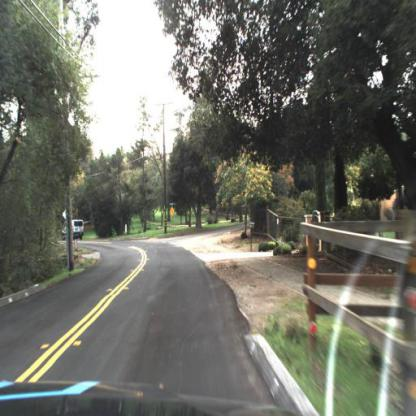car: (62, 217, 90, 243)
